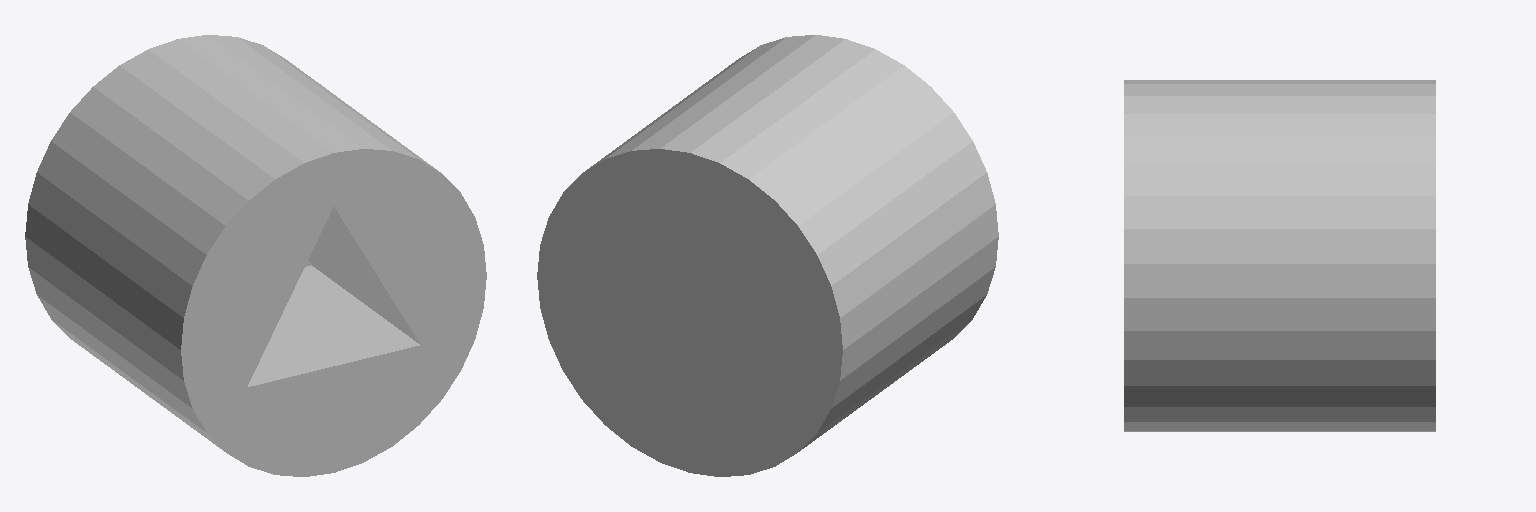
File: triangle_short.obj
The picture shows the model from 3 angles: view 1: azimuth 30°, elevation 25°; view 2: azimuth 150°, elevation 25°; view 3: azimuth 270°, elevation 25°; orthographic projection.
Parts seen in each view (by area): view 1: slot_triangle_short; view 2: slot_triangle_short; view 3: slot_triangle_short.
Part boxes in pixels (x1,y1,x2,y2): slot_triangle_short: (25,35,486,476); slot_triangle_short: (537,35,998,476); slot_triangle_short: (1124,80,1435,431).
Bounding box in the file's own units: 0.034 × 0.034 × 0.03.